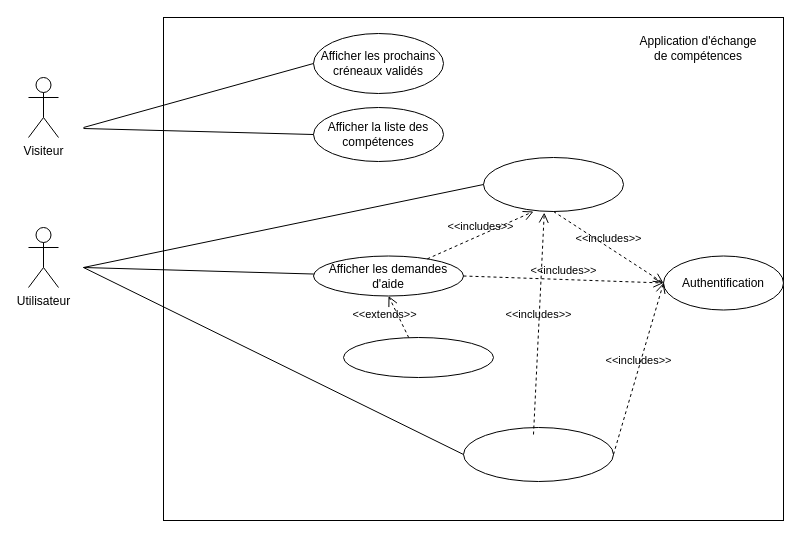
This 801x538 diagram has some shape labels left out. The shapes that lost their labels are listed below. From the top down, each one's centre as x and y in pixels, then its label:
the point at 553,184: Choisir ses compétences
the point at 418,357: Indiquer sa disponibilité pour aider
the point at 538,454: Demander de l'aide pour une activité
